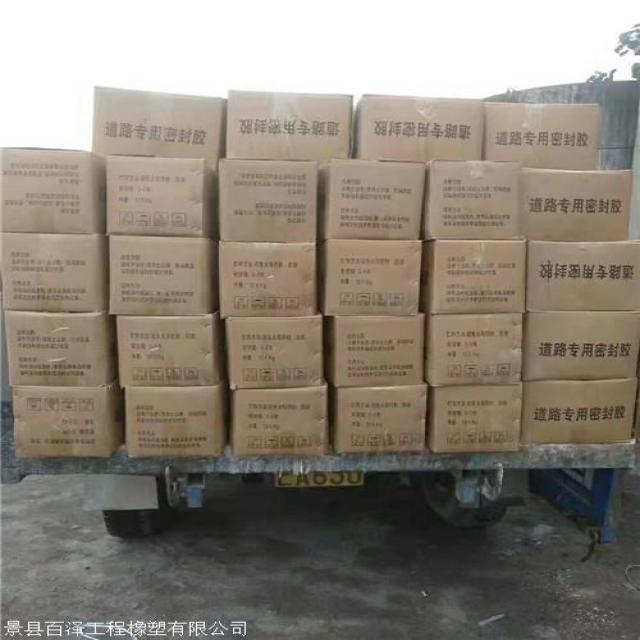box: (92, 86, 225, 173), (227, 90, 355, 166), (106, 156, 218, 239), (0, 147, 106, 234), (317, 158, 428, 241), (10, 378, 125, 458), (109, 234, 219, 316), (353, 95, 485, 162), (4, 309, 118, 386), (420, 158, 525, 241), (218, 159, 320, 243), (521, 309, 640, 381), (1, 233, 108, 312), (317, 238, 424, 316), (123, 378, 228, 457), (115, 310, 225, 385), (527, 239, 640, 311), (524, 166, 632, 241), (225, 311, 325, 390), (228, 381, 330, 458), (422, 239, 526, 314), (486, 103, 602, 170), (520, 378, 639, 443), (325, 312, 426, 388), (220, 241, 319, 318), (424, 313, 525, 388), (329, 383, 429, 455), (428, 384, 524, 455)
